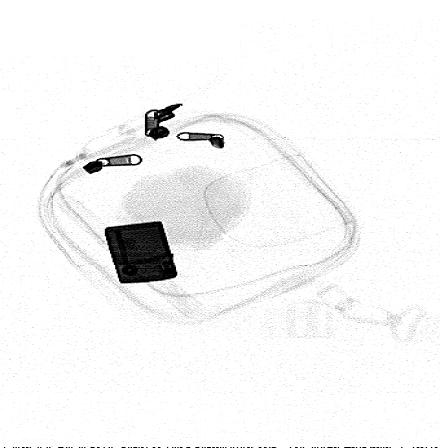Lighter: (102, 220, 181, 284)
